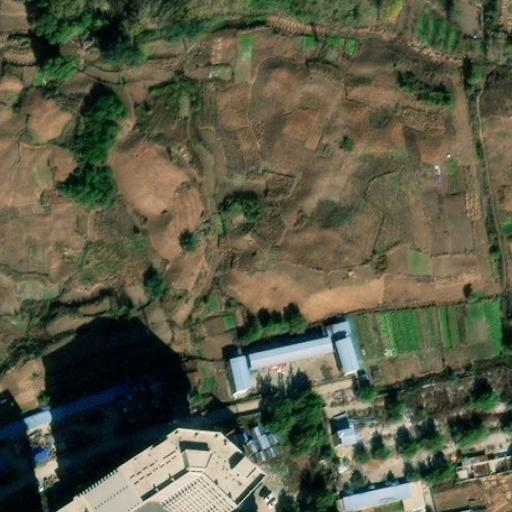building: (0, 381, 131, 442), (76, 458, 222, 512), (341, 480, 426, 512), (249, 337, 335, 368), (328, 320, 358, 373), (463, 447, 512, 479), (226, 354, 252, 392), (199, 311, 229, 338), (334, 418, 359, 444), (128, 501, 171, 512)
